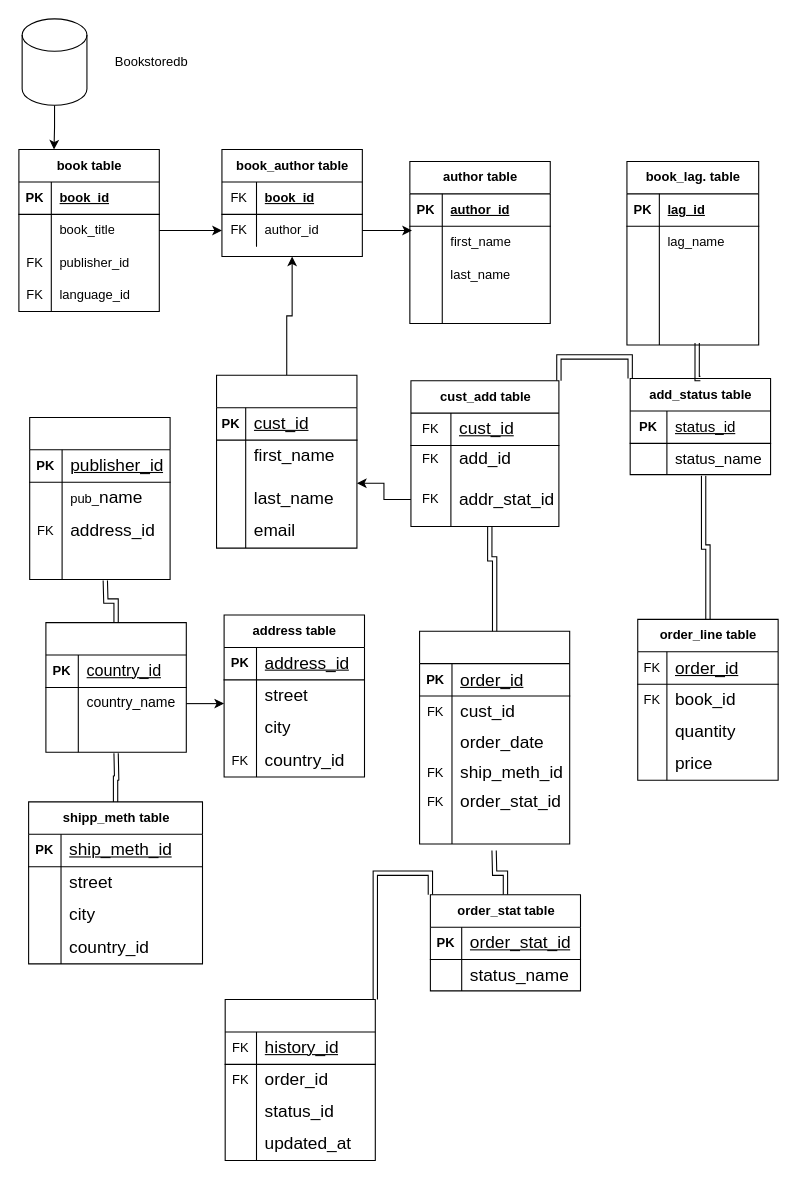
Image size: 797x1179. Some labels were removed from this diagram. Each missing label, with the box of its shape:
country table: (45, 622, 186, 752)
cust_order table: (418, 630, 570, 844)
customer table: (215, 374, 357, 548)
order_history table: (224, 998, 375, 1160)
publisher table: (29, 416, 170, 579)
